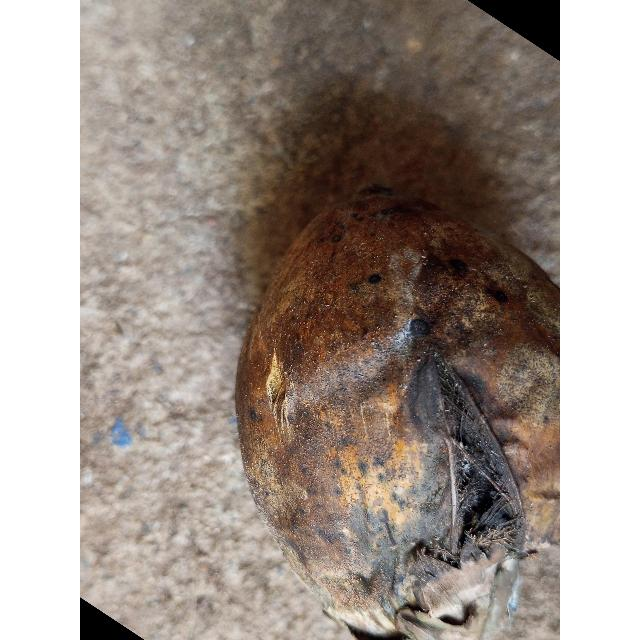damaged: (233, 188, 560, 640)
